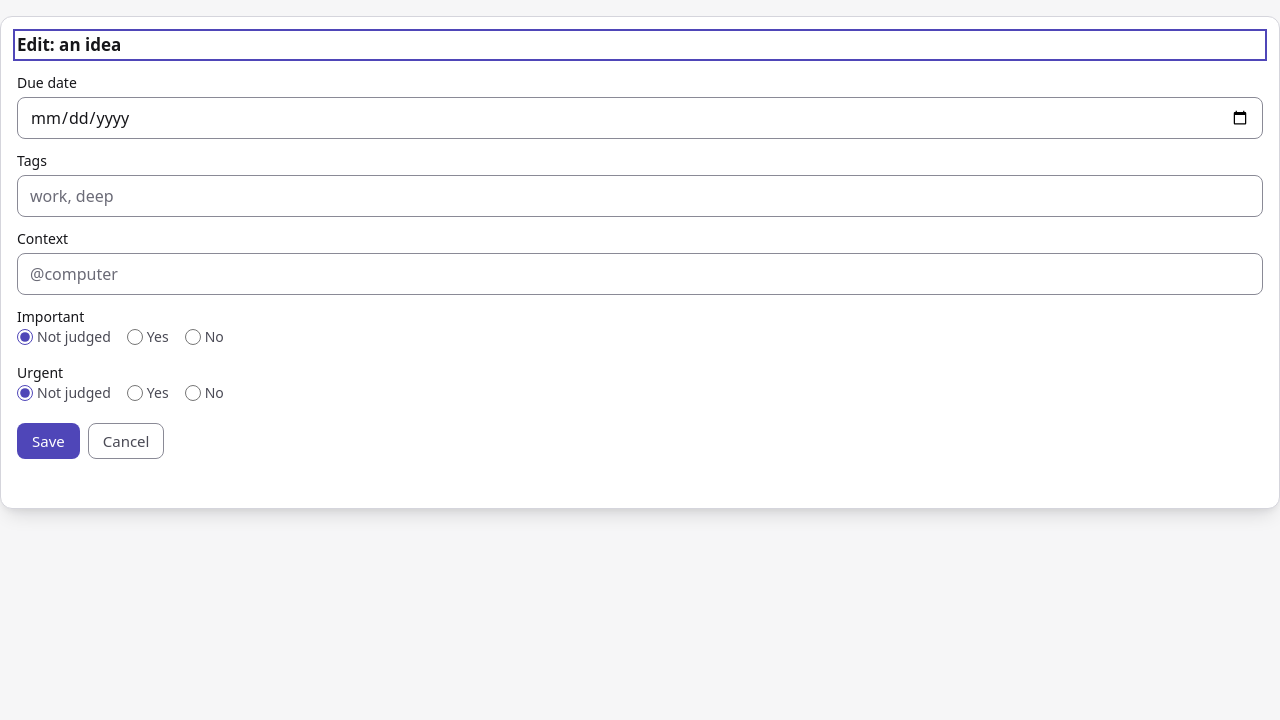
Test: the attributes editor (FR-011 + FR-013) › surfaces an indexed tag error against the tags field
This screenshot has width=1280, height=720.
Click the button "Save" at [48, 441], box [17,423,80,459]
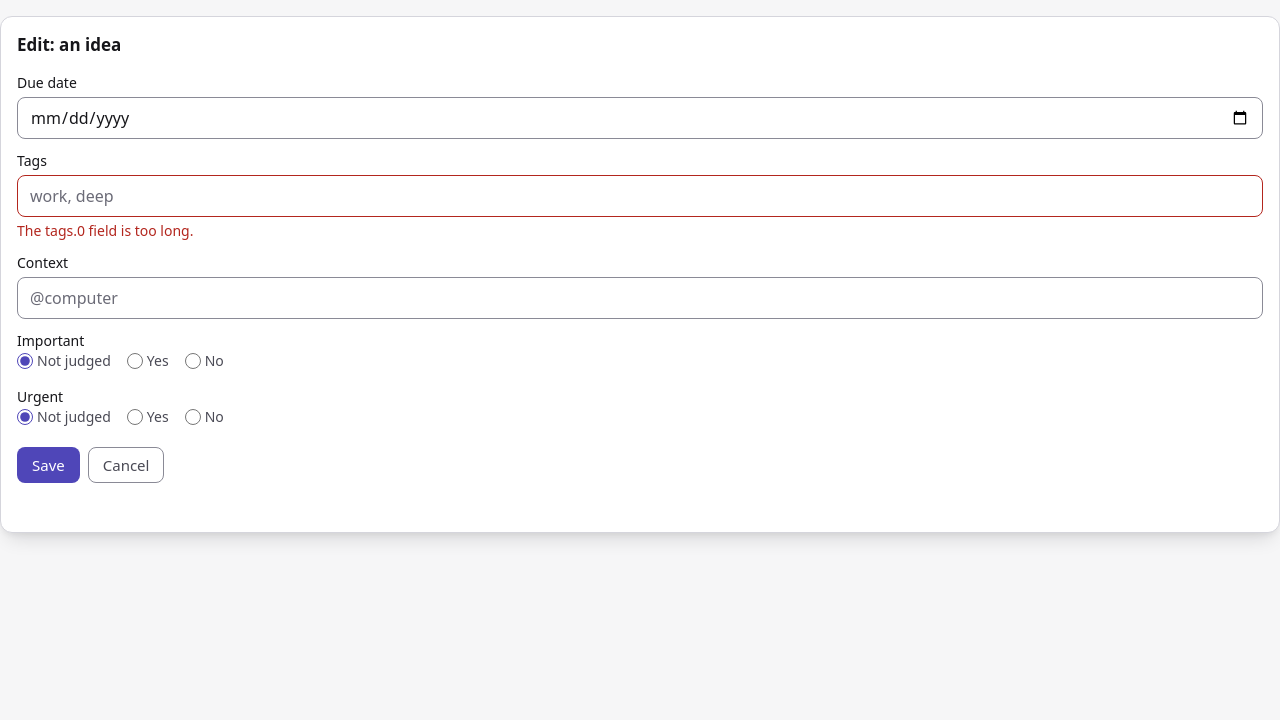
Expected: the text "The tags.0 field is too long." is shown, [17,221,194,240]
